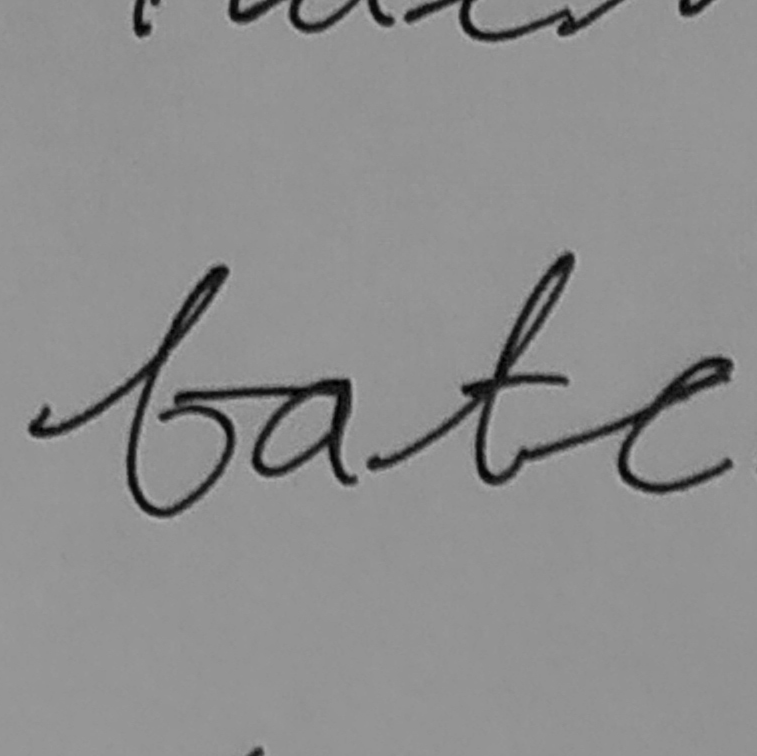a: (245, 371, 363, 494)
b: (119, 262, 239, 523)
c: (613, 351, 746, 498)
t: (456, 249, 579, 489)
